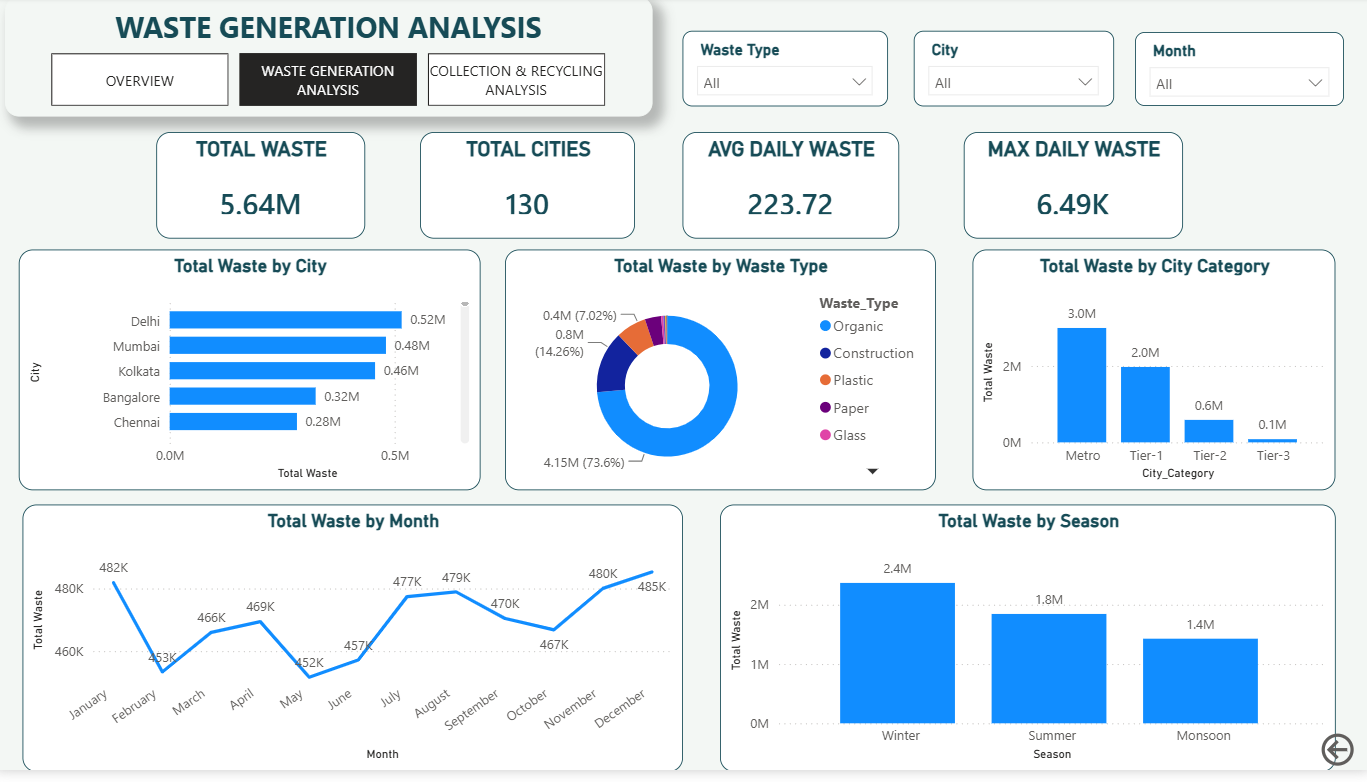

The page's visual inventory and layout, read from the dashboard file:
{"tool":"powerbi","page":{"name":"WASTE GENERATION ANALYSIS","canvas":[1280,720],"ordinal":1},"visuals":[{"type":"textbox","box":[9.7,0,602,111],"z":0},{"type":"cardVisual","title":"TOTAL WASTE","fields":{"Data":["DateTable.Total Waste"]},"box":[149.6,125.5,194.2,98.9],"z":1000},{"type":"cardVisual","title":"AVG DAILY WASTE","fields":{"Data":["DateTable.Average Daily Waste"]},"box":[639.4,125.5,201.5,98.9],"z":2000},{"type":"cardVisual","title":"MAX DAILY WASTE","fields":{"Data":["DateTable.Maximum Daily Waste"]},"box":[901.2,125.5,203.9,98.9],"z":3000},{"type":"cardVisual","title":"TOTAL CITIES","fields":{"Data":["DateTable.Total Cities"]},"box":[395.7,125.5,200.3,98.9],"z":4000},{"type":"barChart","fields":{"Y":["DateTable.Total Waste"],"Category":["waste_management wsql.City"]},"box":[21.7,235.3,429.5,224.4],"z":5000},{"type":"donutChart","title":"Total Waste by Waste Type","fields":{"Y":["DateTable.Total Waste"],"Category":["waste_management wsql.Waste_Type"]},"box":[474.1,235.3,400.5,224.4],"z":6000},{"type":"lineChart","fields":{"Category":["DateTable.Date.Variation.Date Hierarchy.Month"],"Y":["DateTable.Total Waste"]},"box":[25.3,471.7,614.1,248.5],"z":7000},{"type":"clusteredColumnChart","fields":{"Category":["waste_management wsql.Season"],"Y":["DateTable.Total Waste"]},"box":[674.4,471.7,573.1,248.5],"z":8000},{"type":"columnChart","title":"Total Waste by City Category","fields":{"Category":["waste_management wsql.City_Category"],"Y":["DateTable.Total Waste"]},"box":[909.7,235.3,337.8,224.4],"z":9000},{"type":"actionButton","box":[1229.4,680.4,50.7,39.8],"z":10000},{"type":"slicer","fields":{"Values":["waste_management wsql.Waste_Type"]},"box":[639.4,31.4,190.8,70.4],"z":11000},{"type":"slicer","fields":{"Values":["waste_management wsql.City"]},"box":[854.2,31.4,186.1,70.4],"z":12000},{"type":"slicer","fields":{"Values":["DateTable.Date.Variation.Date Hierarchy.Month"]},"box":[1060.5,32.6,194.4,69.2],"z":13000},{"type":"pageNavigator","box":[51.9,51.9,517.6,49.5],"z":14000}]}

Visuals, with their boxes in screenshot pixels (x1, y1, x2, y2), scaled from the page's 1280x720 canvas onto the 1367x782 screenshot:
textbox: bbox(10, 0, 653, 121)
"TOTAL WASTE" cardVisual: bbox(160, 136, 367, 244)
"AVG DAILY WASTE" cardVisual: bbox(683, 136, 898, 244)
"MAX DAILY WASTE" cardVisual: bbox(962, 136, 1180, 244)
"TOTAL CITIES" cardVisual: bbox(423, 136, 637, 244)
barChart - DateTable.Total Waste x waste_management wsql.City: bbox(23, 256, 482, 499)
"Total Waste by Waste Type" donutChart: bbox(506, 256, 934, 499)
lineChart - DateTable.Date.Variation.Date Hierarchy.Month x DateTable.Total Waste: bbox(27, 512, 683, 781)
clusteredColumnChart - waste_management wsql.Season x DateTable.Total Waste: bbox(720, 512, 1332, 781)
"Total Waste by City Category" columnChart: bbox(972, 256, 1332, 499)
actionButton: bbox(1313, 739, 1366, 781)
slicer - waste_management wsql.Waste_Type: bbox(683, 34, 887, 111)
slicer - waste_management wsql.City: bbox(912, 34, 1111, 111)
slicer - DateTable.Date.Variation.Date Hierarchy.Month: bbox(1133, 35, 1340, 111)
pageNavigator: bbox(55, 56, 608, 110)
